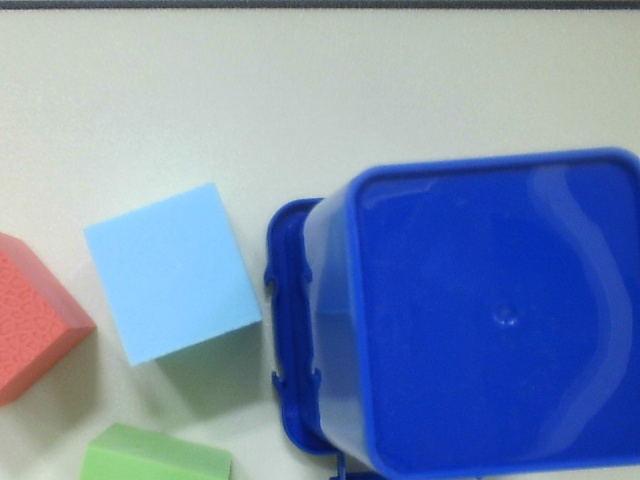greencube: (73, 418, 249, 480)
